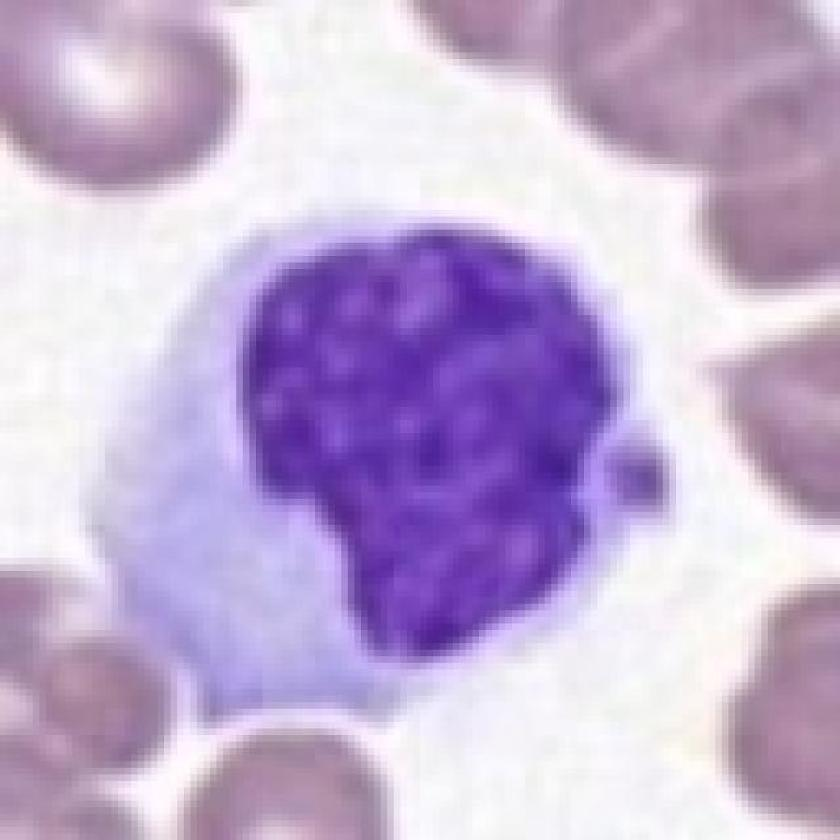lymphocyte: (76, 203, 674, 718)
